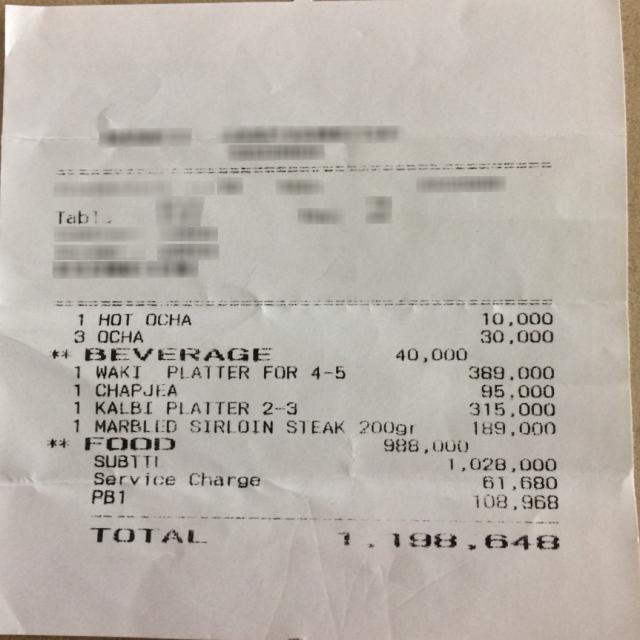text: (337, 532, 557, 551), (84, 347, 270, 360), (89, 527, 204, 542), (448, 456, 555, 472), (383, 438, 467, 453), (472, 420, 554, 435), (475, 494, 557, 509), (83, 437, 174, 450), (469, 402, 553, 416), (188, 419, 271, 433), (187, 471, 259, 487), (166, 365, 248, 379), (481, 310, 552, 326), (93, 382, 174, 396), (467, 366, 553, 379), (165, 401, 248, 414), (94, 418, 175, 431), (92, 472, 173, 485), (482, 475, 555, 489), (396, 347, 464, 361), (479, 330, 551, 343), (481, 384, 553, 396), (93, 454, 156, 467), (286, 420, 344, 433), (359, 420, 412, 434), (94, 401, 149, 414), (57, 210, 109, 223), (260, 364, 297, 381), (145, 313, 190, 325), (96, 330, 141, 342), (96, 365, 138, 377), (91, 489, 122, 504), (310, 366, 343, 379), (97, 313, 131, 325), (262, 402, 296, 414), (70, 364, 82, 378), (47, 438, 66, 446), (74, 312, 84, 326), (72, 382, 82, 396), (72, 330, 82, 342), (51, 350, 65, 358), (73, 400, 81, 414), (73, 418, 81, 432)
